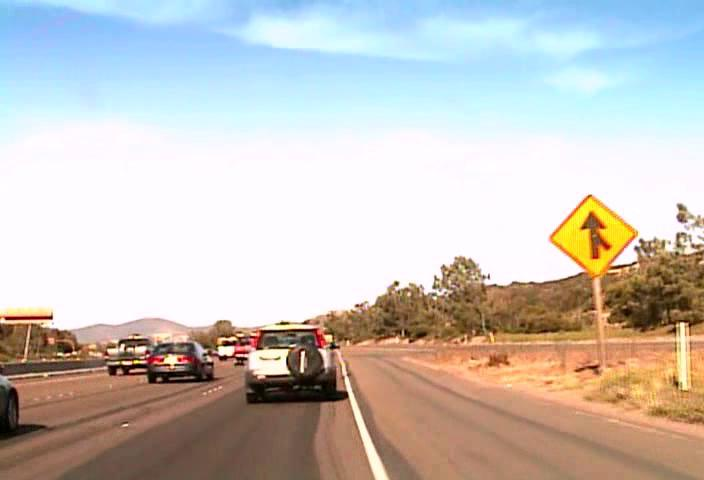merge: (548, 193, 638, 276)
